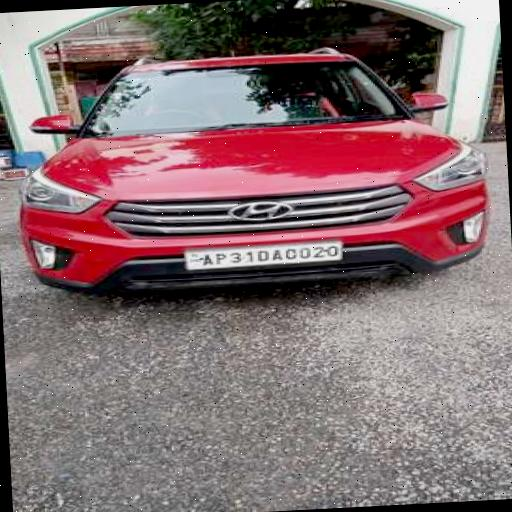license_plate`: (182, 239, 341, 268)
